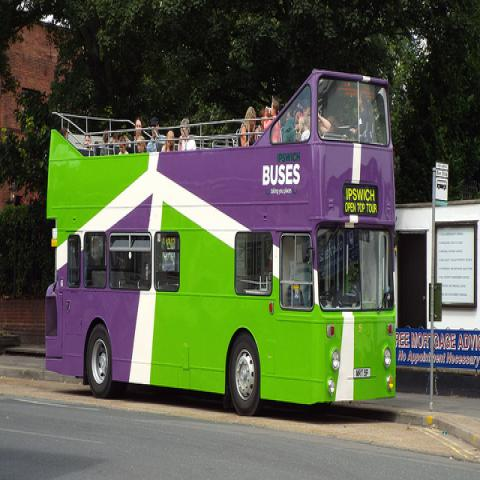bus: (44, 72, 398, 417)
